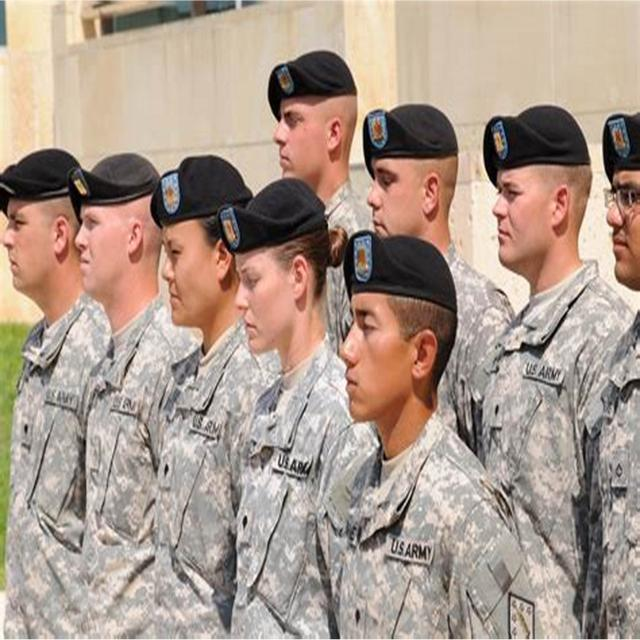illegal_helmet: (340, 224, 460, 428), (216, 175, 332, 356), (479, 96, 594, 277), (147, 150, 250, 333), (65, 144, 162, 308), (360, 95, 461, 243), (264, 42, 359, 193), (0, 142, 87, 306)
